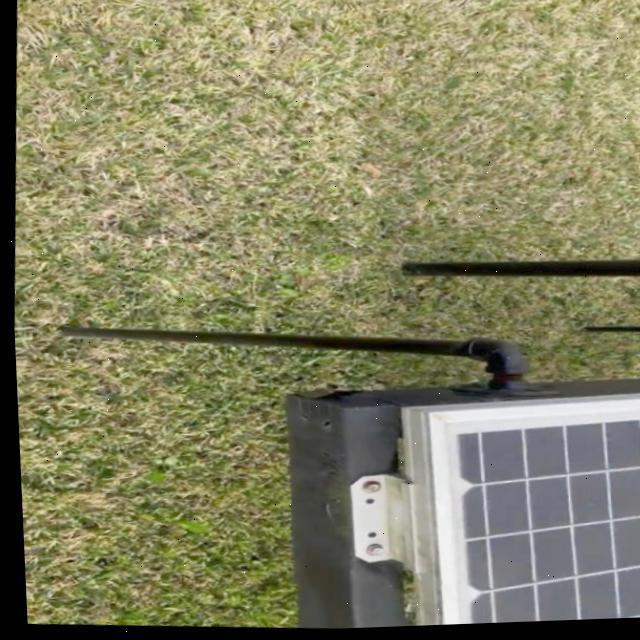Normal Solar Panel: (387, 386, 640, 630)
